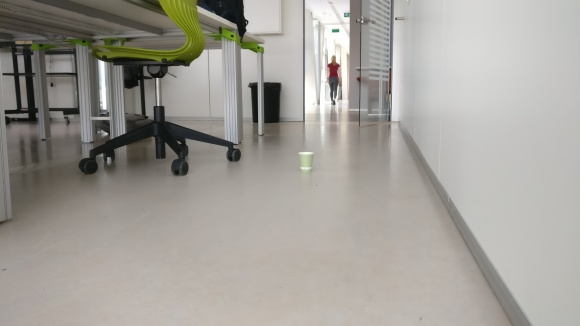cup: (296, 149, 314, 172)
